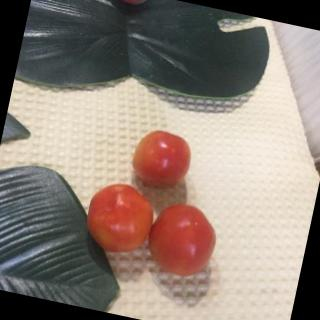Tomat: (73, 113, 239, 298)
